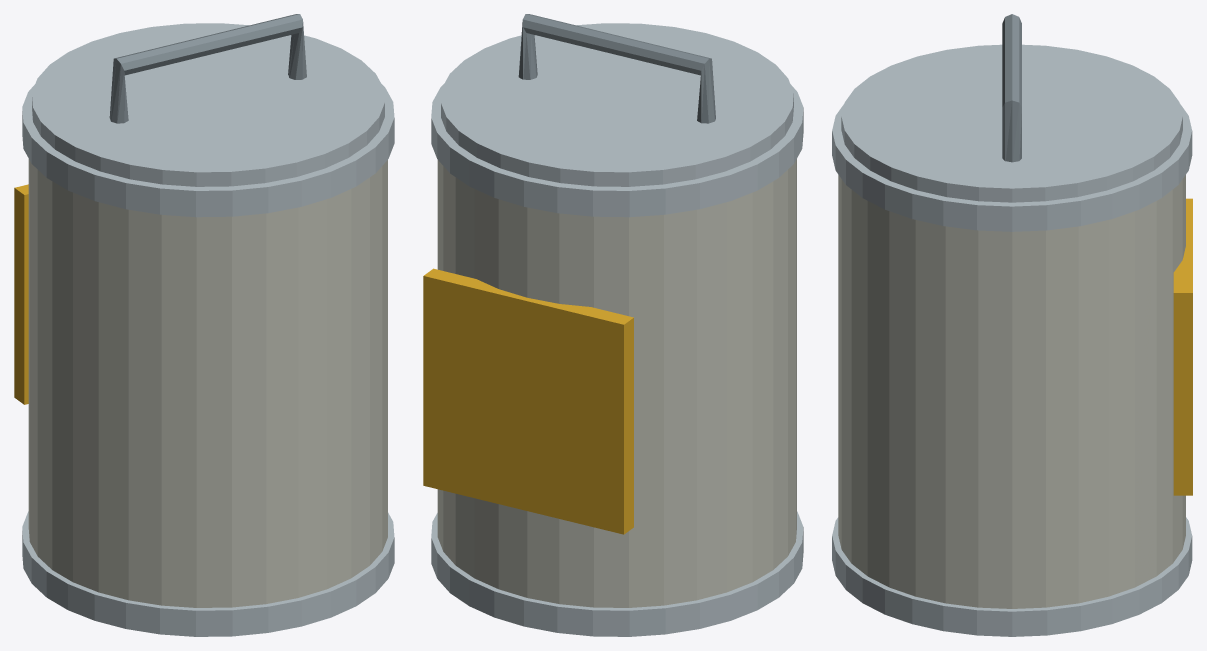
The model's file is body.obj.
The picture shows the model from 3 angles, left to right: view 1: azimuth 30°, elevation 25°; view 2: azimuth 150°, elevation 25°; view 3: azimuth 270°, elevation 25°; orthographic projection. The views are drawn at different scales.
Size of the model in its own units: 0.58 by 0.8953 by 0.581.
